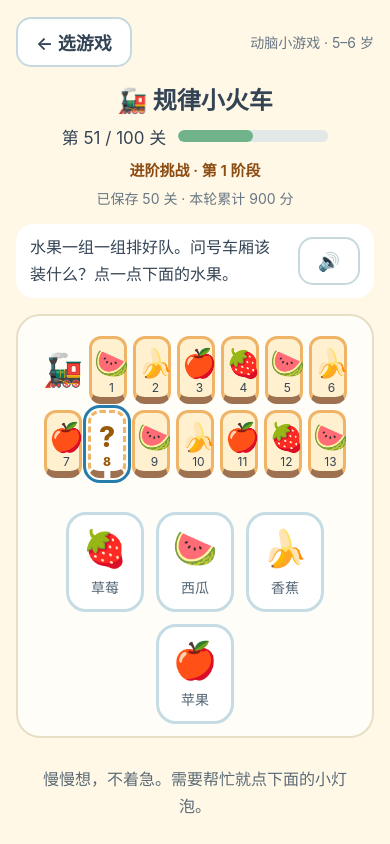
Test case: GamePuzzle › continues a formerly completed pattern course at level 51 without resetting awards
This screenshot has width=390, height=844.
Expected: the text "第 51 / 100 关" is shown, x1=62 y1=124 x2=166 y2=149
Expected: the text "进阶挑战 · 第 1 阶段" is shown, x1=129 y1=161 x2=261 y2=180
Click the button "🍓 草莓". click: (105, 562)
box: x1=66 y1=512 x2=144 y2=612
(page scrolled)
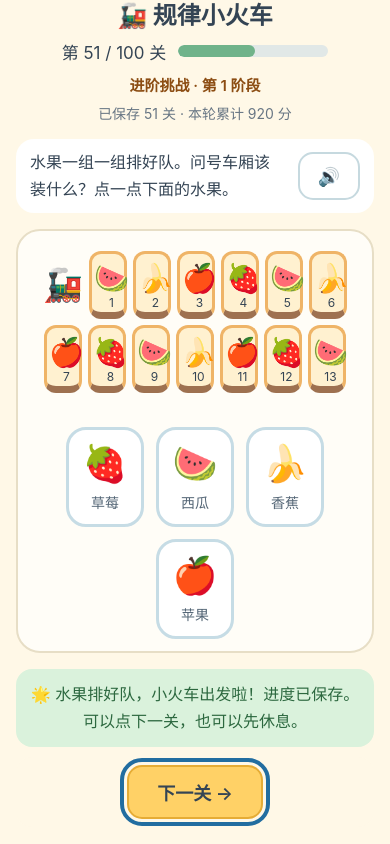
Now the button "下一关 →" is shown, box x1=127 y1=765 x2=263 y2=819
